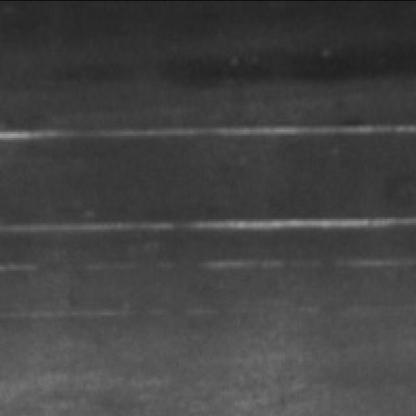scratches: (6, 119, 416, 152), (8, 214, 416, 244)
